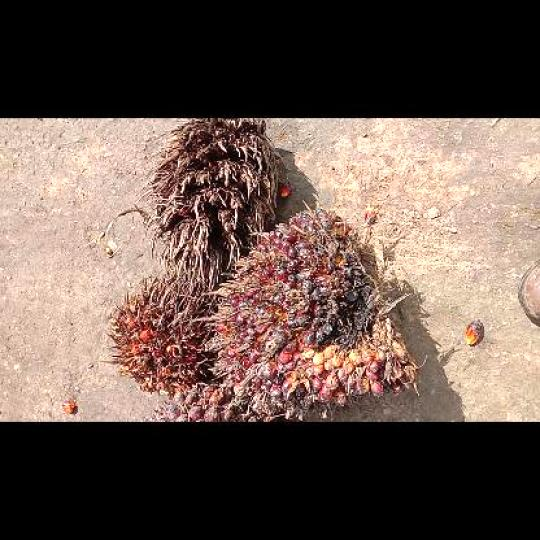kurang masak: (142, 385, 281, 420)
masak: (192, 202, 426, 420)
terlalu masak: (102, 268, 217, 397)
